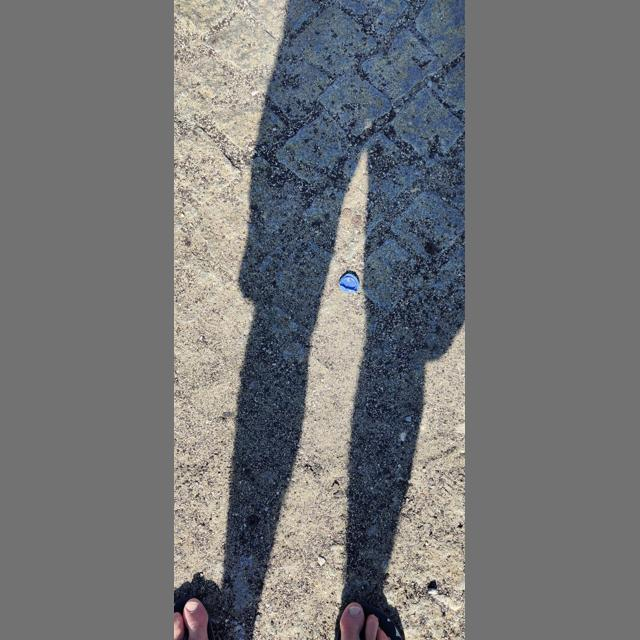litter: (339, 274, 360, 293)
